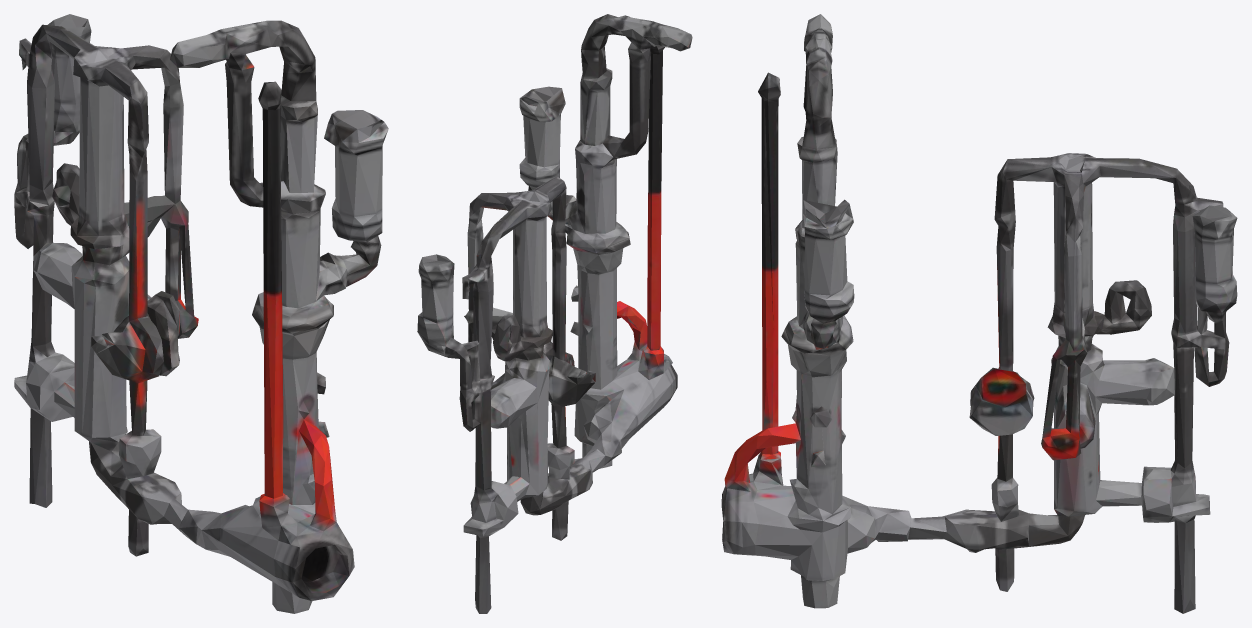
File: pipe_cluster.glb
3 renders of one model, left to right at view 1: azimuth 30°, elevation 25°; view 2: azimuth 150°, elevation 25°; view 3: azimuth 270°, elevation 25°, orthographic. The views are drawn at different scales.
Parts seen in each view (by area): view 1: textured_mesh.obj; view 2: textured_mesh.obj; view 3: textured_mesh.obj.
Part boxes in pixels (x1=…): textured_mesh.obj: x1=14, y1=14, x2=388, y2=613; textured_mesh.obj: x1=417, y1=14, x2=692, y2=613; textured_mesh.obj: x1=721, y1=14, x2=1237, y2=613.
Size of the model in its own units: 0.8019 by 2.2 by 1.81.
Materials: 1 (1 with a texture image).
